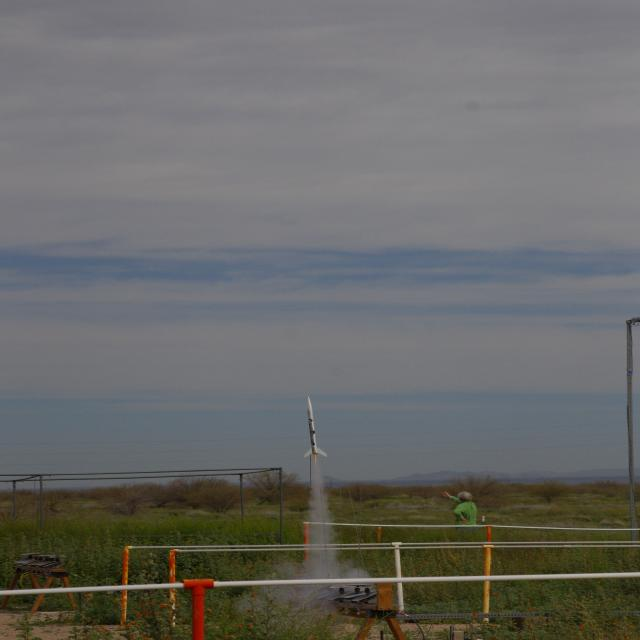Rocket: (302, 395, 329, 459)
